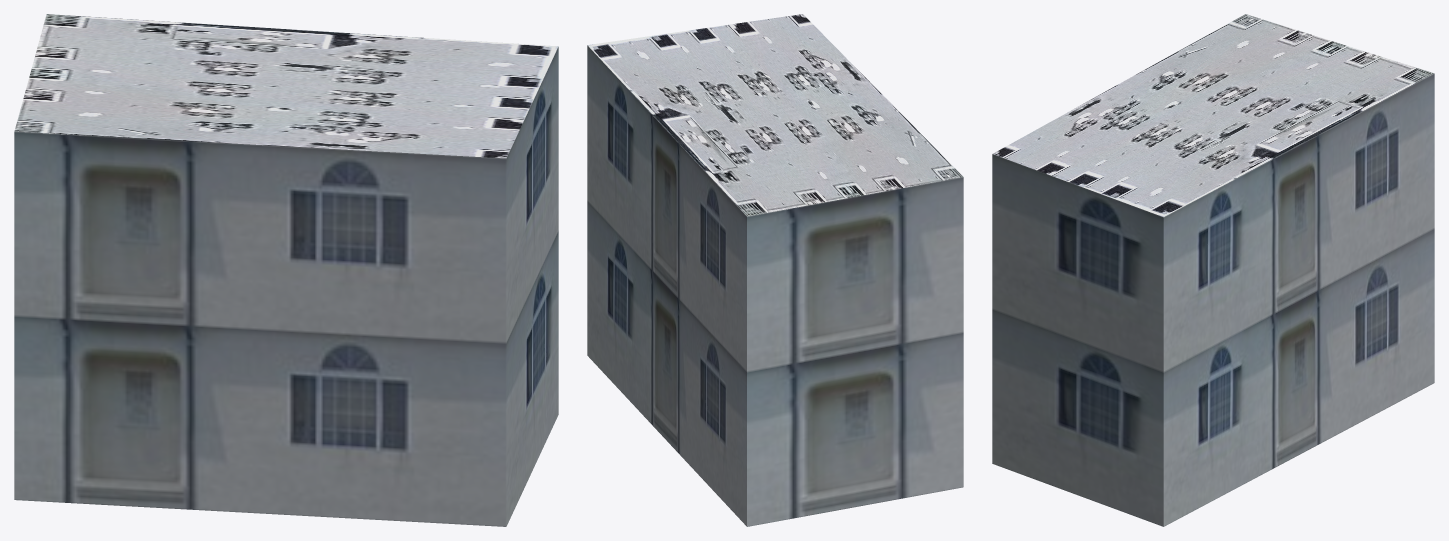
The model's file is ResTex__4515.fbx.
3 views of the same model, side by side, from view 1: azimuth 30°, elevation 25°; view 2: azimuth 150°, elevation 25°; view 3: azimuth 270°, elevation 25° (orthographic). The views are drawn at different scales.
Parts seen in each view (by area): view 1: CityEngineMaterial_17_m, CityEngineMaterial_8_m; view 2: CityEngineMaterial_17_m, CityEngineMaterial_8_m; view 3: CityEngineMaterial_17_m, CityEngineMaterial_8_m.
Part boxes in pixels (x1,y1,x2,y2): CityEngineMaterial_17_m: [14, 47, 558, 526]; CityEngineMaterial_8_m: [14, 14, 558, 158]; CityEngineMaterial_17_m: [587, 45, 963, 526]; CityEngineMaterial_8_m: [587, 14, 963, 216]; CityEngineMaterial_17_m: [992, 73, 1434, 526]; CityEngineMaterial_8_m: [993, 14, 1433, 217].
Size of the model in its own units: 8.44 by 6 by 7.76.
Materials: 2 (2 with a texture image).
